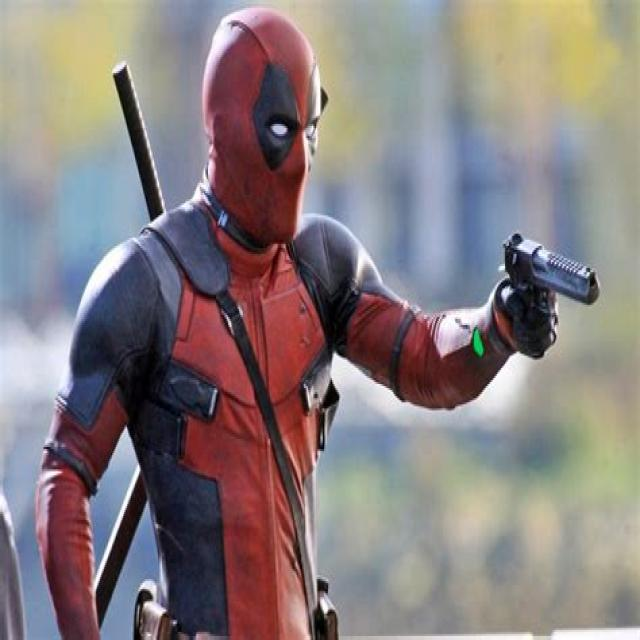weapons: (494, 219, 608, 365)
